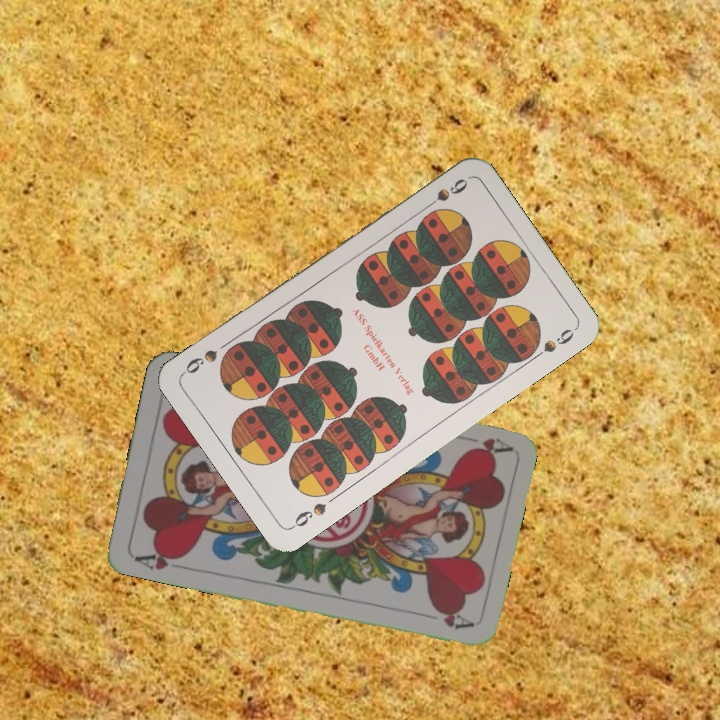HA: (130, 545, 188, 573), (453, 431, 512, 458)
S9: (418, 174, 471, 214), (287, 498, 329, 532)
